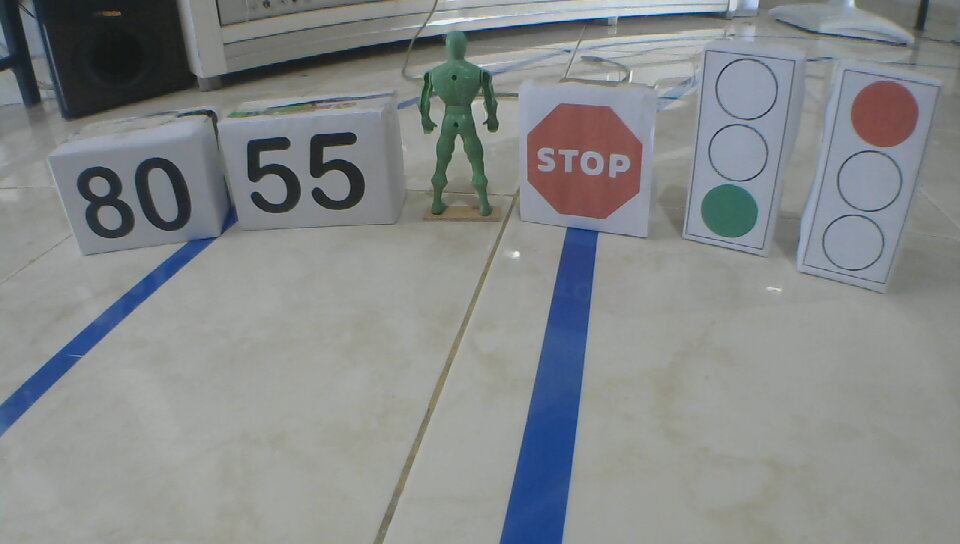Green Light: (698, 57, 782, 243)
Person: (419, 30, 502, 220)
Red Light: (823, 82, 922, 278)
Speed 55: (246, 129, 370, 215)
Speed 80: (73, 157, 193, 239)
Stop: (524, 101, 645, 221)
